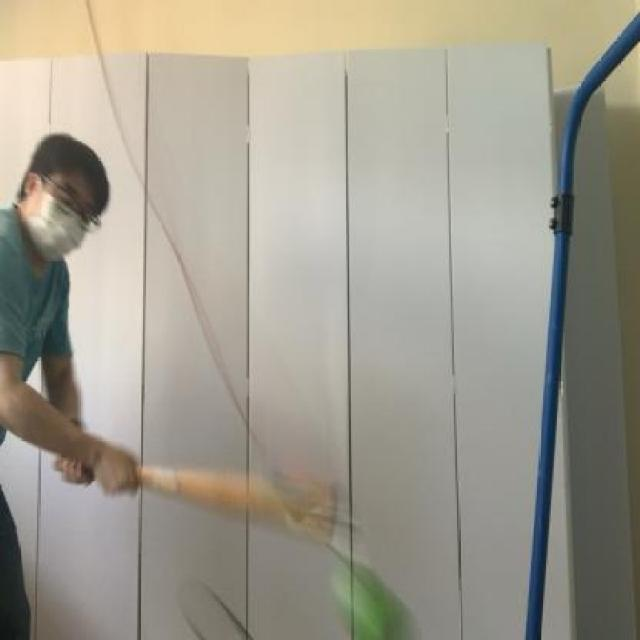baseball: (318, 531, 418, 640)
